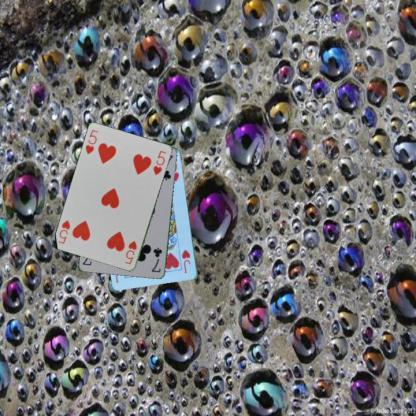5h: (82, 127, 100, 156), (123, 238, 138, 266)
7c: (149, 245, 164, 274)
Jh: (179, 247, 192, 274)
